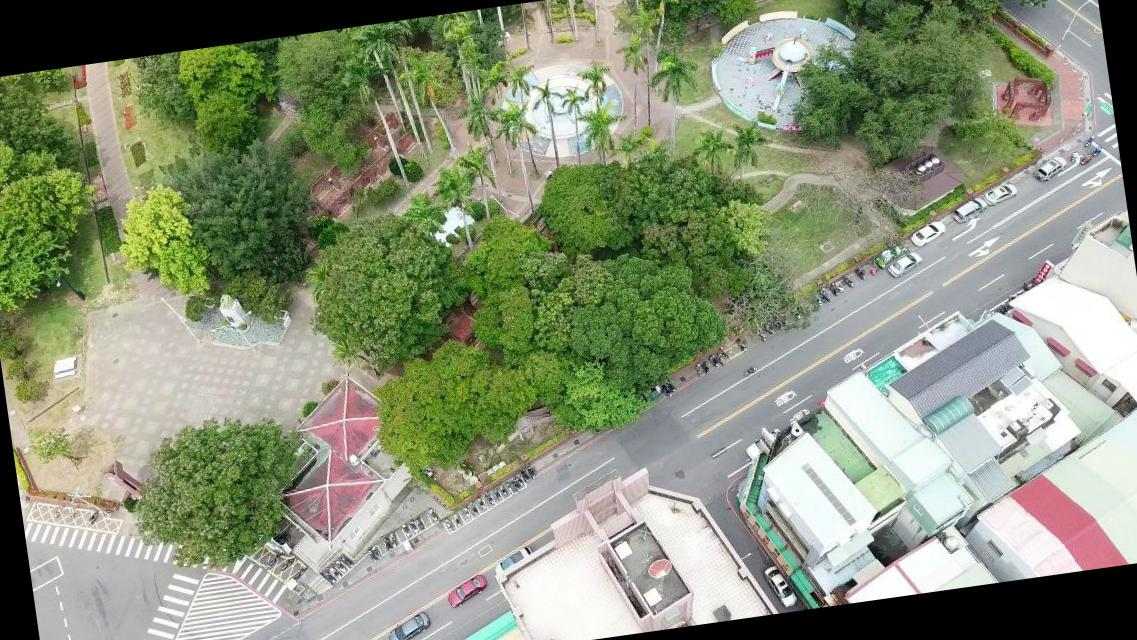vehicle: (762, 562, 800, 610), (444, 572, 491, 608), (384, 610, 434, 639), (742, 428, 784, 460), (949, 194, 989, 226), (492, 546, 536, 574), (908, 218, 949, 248), (885, 250, 925, 279), (1032, 154, 1069, 182), (982, 181, 1020, 208)
